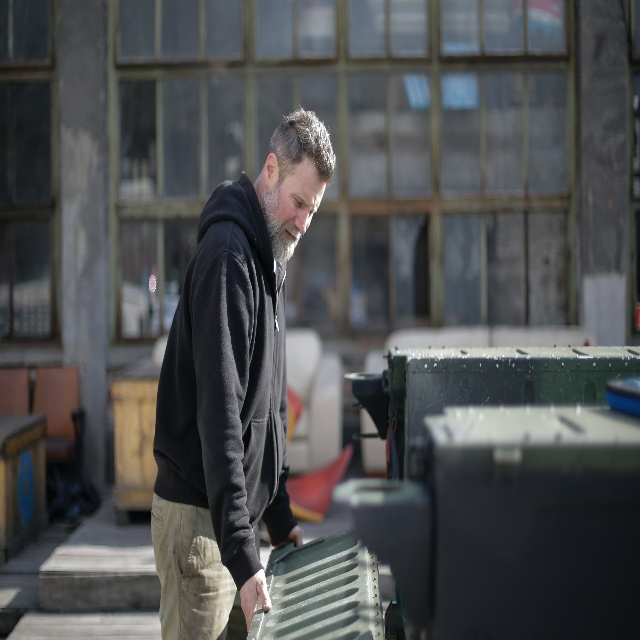Sin_guantes: (239, 571, 274, 630), (288, 524, 303, 549)
